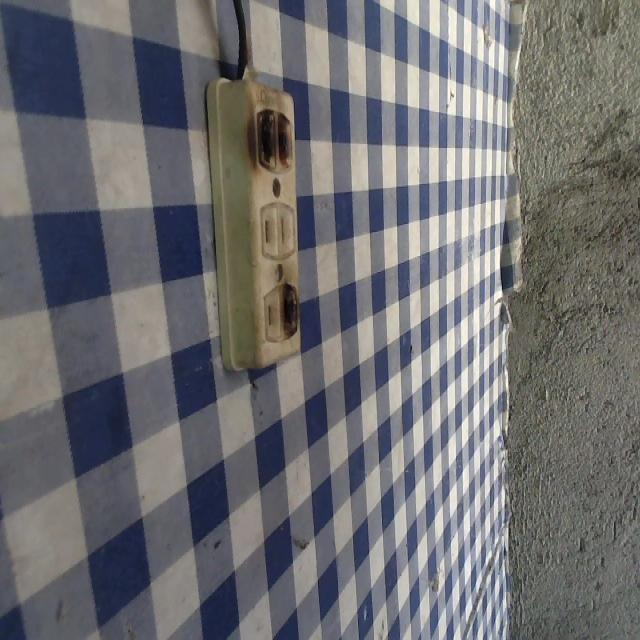-: (247, 104, 298, 180), (279, 280, 304, 340)
